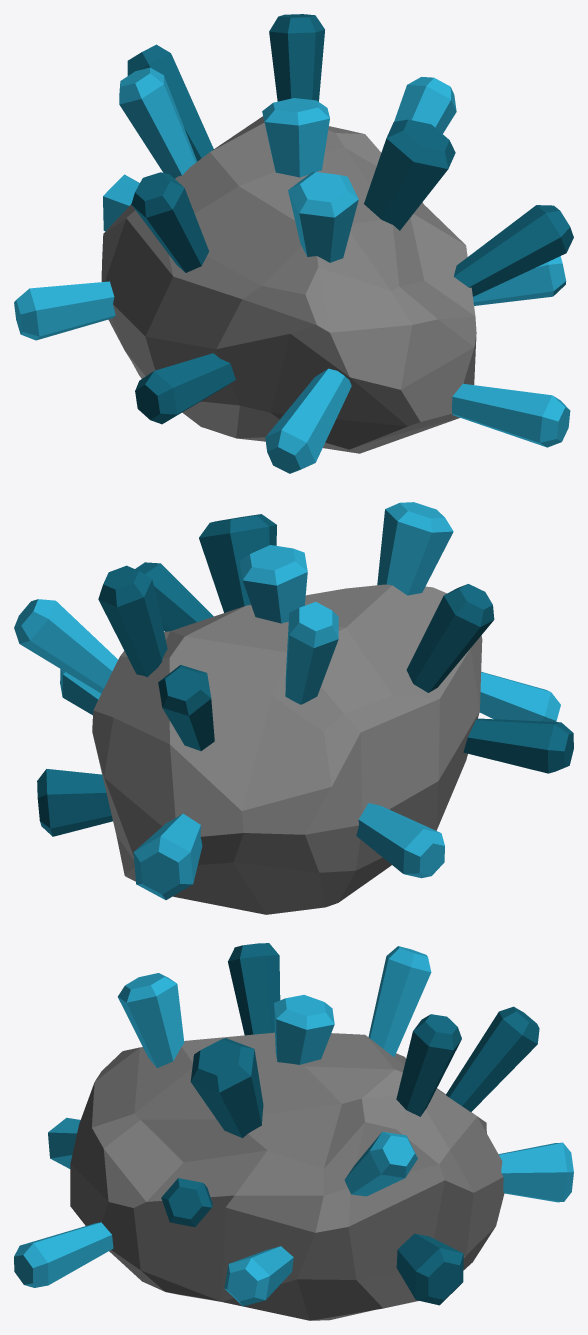
File: MineralNode_03_C.fbx
3 views of the same model, one above another, from view 1: azimuth 30°, elevation 25°; view 2: azimuth 150°, elevation 25°; view 3: azimuth 270°, elevation 25° (orthographic). The views are drawn at different scales.
Visible parts, largest first — view 1: MineralNode_03_C; view 2: MineralNode_03_C; view 3: MineralNode_03_C.
Boxes of the visible parts, box(x1,y1,x2,y2) form: MineralNode_03_C: box(14, 14, 573, 473); MineralNode_03_C: box(14, 502, 573, 914); MineralNode_03_C: box(14, 943, 573, 1320).
Size of the model in its own units: 115 by 76.7 by 131.
